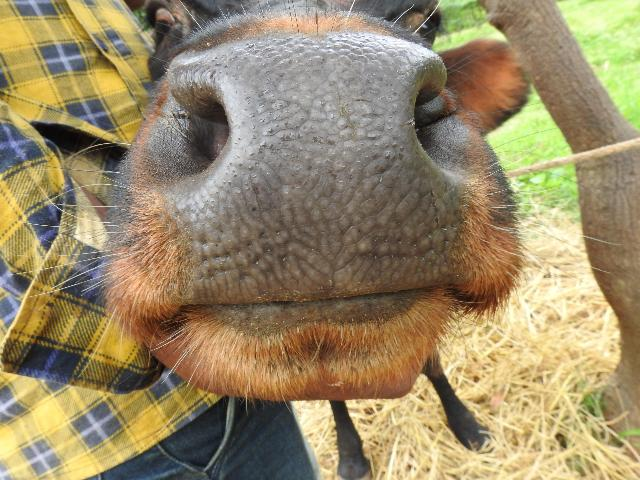Muzzle: (210, 47, 428, 292)
